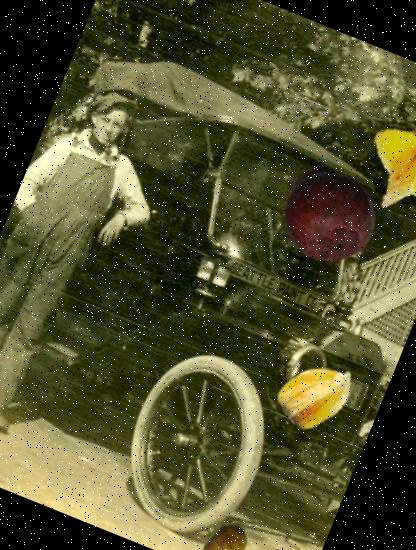Carambula: (349, 99, 416, 229)
Mangostan: (262, 148, 392, 279)
Physalis: (266, 342, 369, 445)
Potato: (193, 511, 259, 550)
